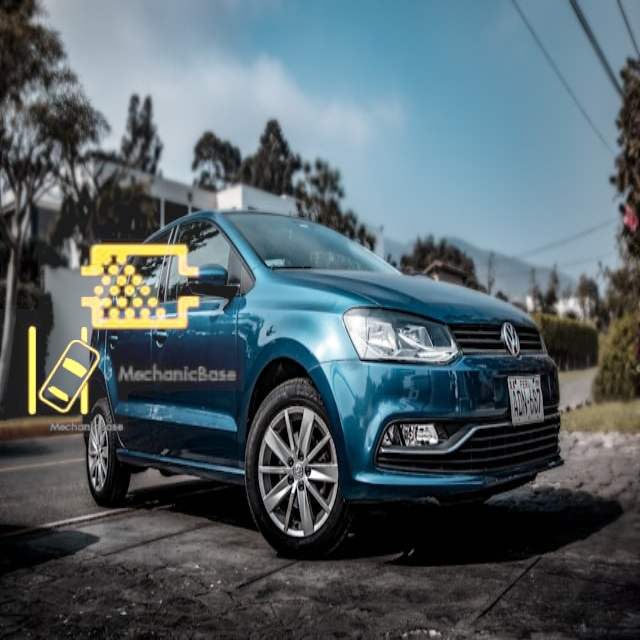symbol: (38, 185, 244, 391), (0, 309, 128, 437)
